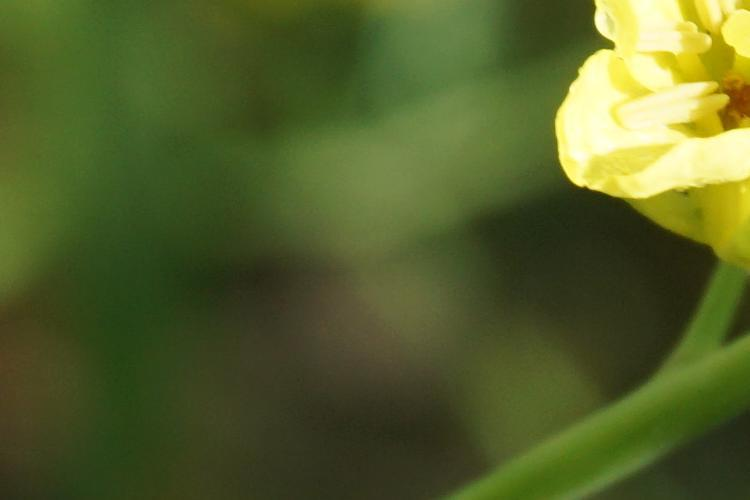yellow: (578, 15, 748, 255)
